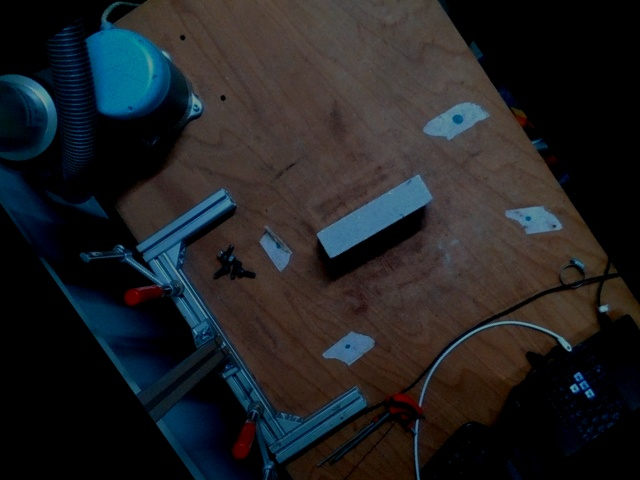brick-side: (316, 174, 434, 260)
